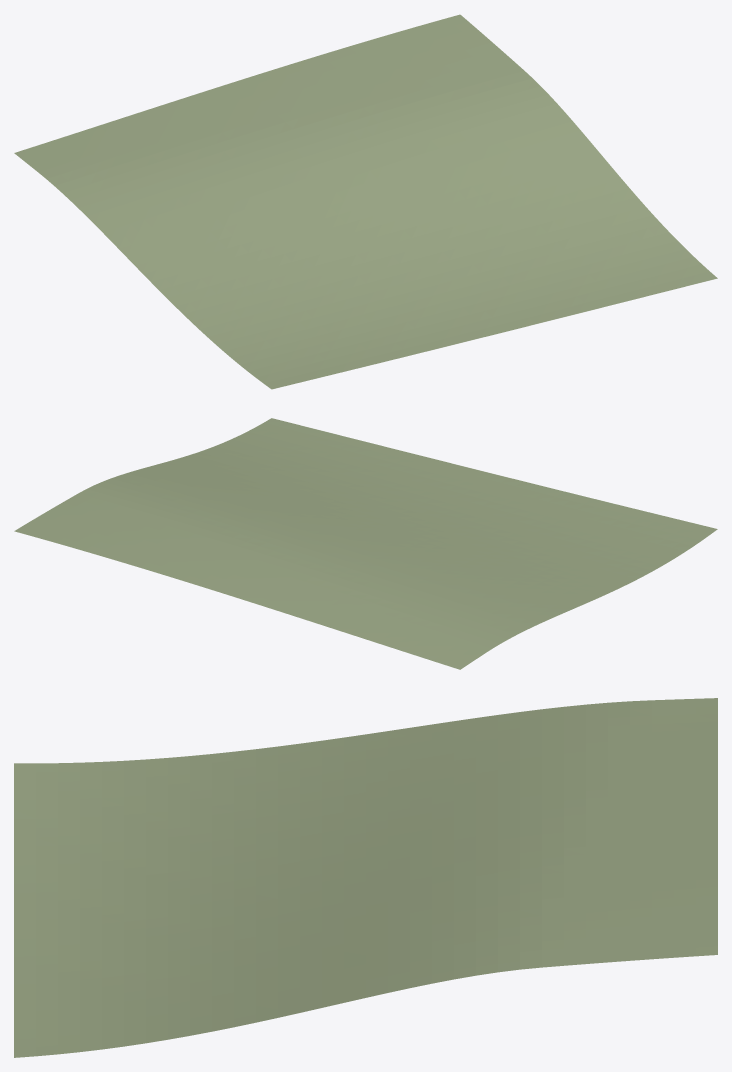
Rendered from valley-1-7.glb.
The picture shows the model from 3 angles, top to bottom: view 1: azimuth 30°, elevation 25°; view 2: azimuth 150°, elevation 25°; view 3: azimuth 270°, elevation 25°; orthographic projection. The views are drawn at different scales.
Parts seen in each view (by area): view 1: valley-1-7; view 2: valley-1-7; view 3: valley-1-7.
Boxes of the visible parts, box(x1,y1,x2,y2) form: valley-1-7: box(14, 14, 717, 389); valley-1-7: box(14, 418, 717, 669); valley-1-7: box(14, 698, 717, 1057).
Bounding box in the file's own units: 256 × 42.51 × 256.
